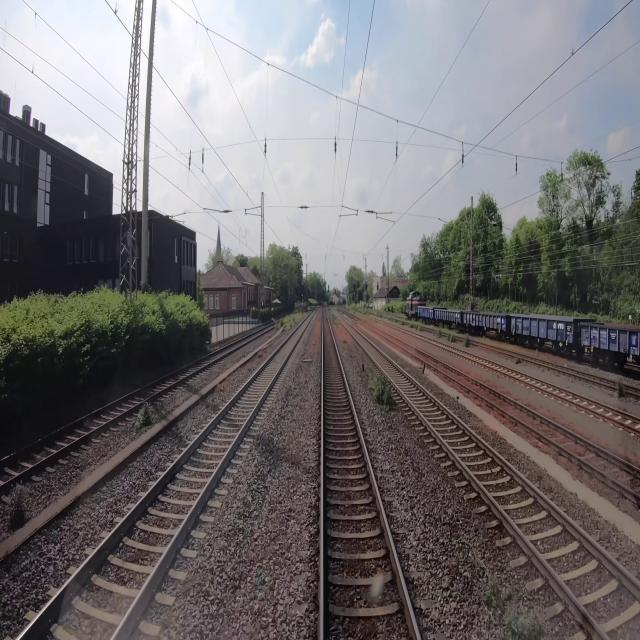Plant: (484, 571, 546, 639), (9, 495, 31, 531), (370, 376, 393, 410), (134, 408, 153, 430), (279, 311, 304, 324), (617, 381, 625, 399), (447, 334, 456, 343), (436, 328, 442, 338), (465, 337, 470, 348), (515, 357, 521, 364), (416, 326, 422, 331), (409, 324, 414, 328), (402, 321, 404, 324), (395, 319, 397, 322), (388, 318, 390, 320), (380, 315, 382, 317)
